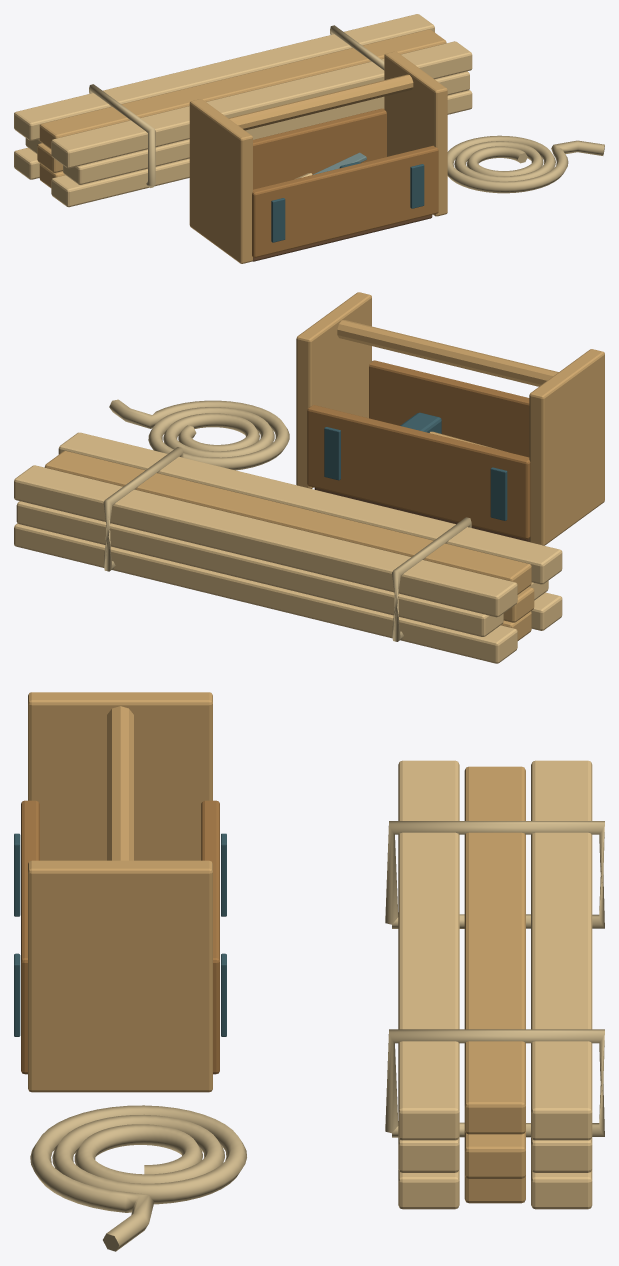
Rendered from SM_BridgeRepairSupplies.fbx.
3 renders of one model, top to bottom at view 1: azimuth 30°, elevation 25°; view 2: azimuth 150°, elevation 25°; view 3: azimuth 270°, elevation 25°, orthographic. The views are drawn at different scales.
Parts seen in each view (by area): view 1: SM_BridgeRepairSupplies; view 2: SM_BridgeRepairSupplies; view 3: SM_BridgeRepairSupplies.
Part boxes in pixels (x1,y1,x2,y2): SM_BridgeRepairSupplies: (14,14,604,263); SM_BridgeRepairSupplies: (14,292,604,663); SM_BridgeRepairSupplies: (14,692,604,1251).
Size of the model in its own units: 1.98 by 1.25 by 0.5325.
